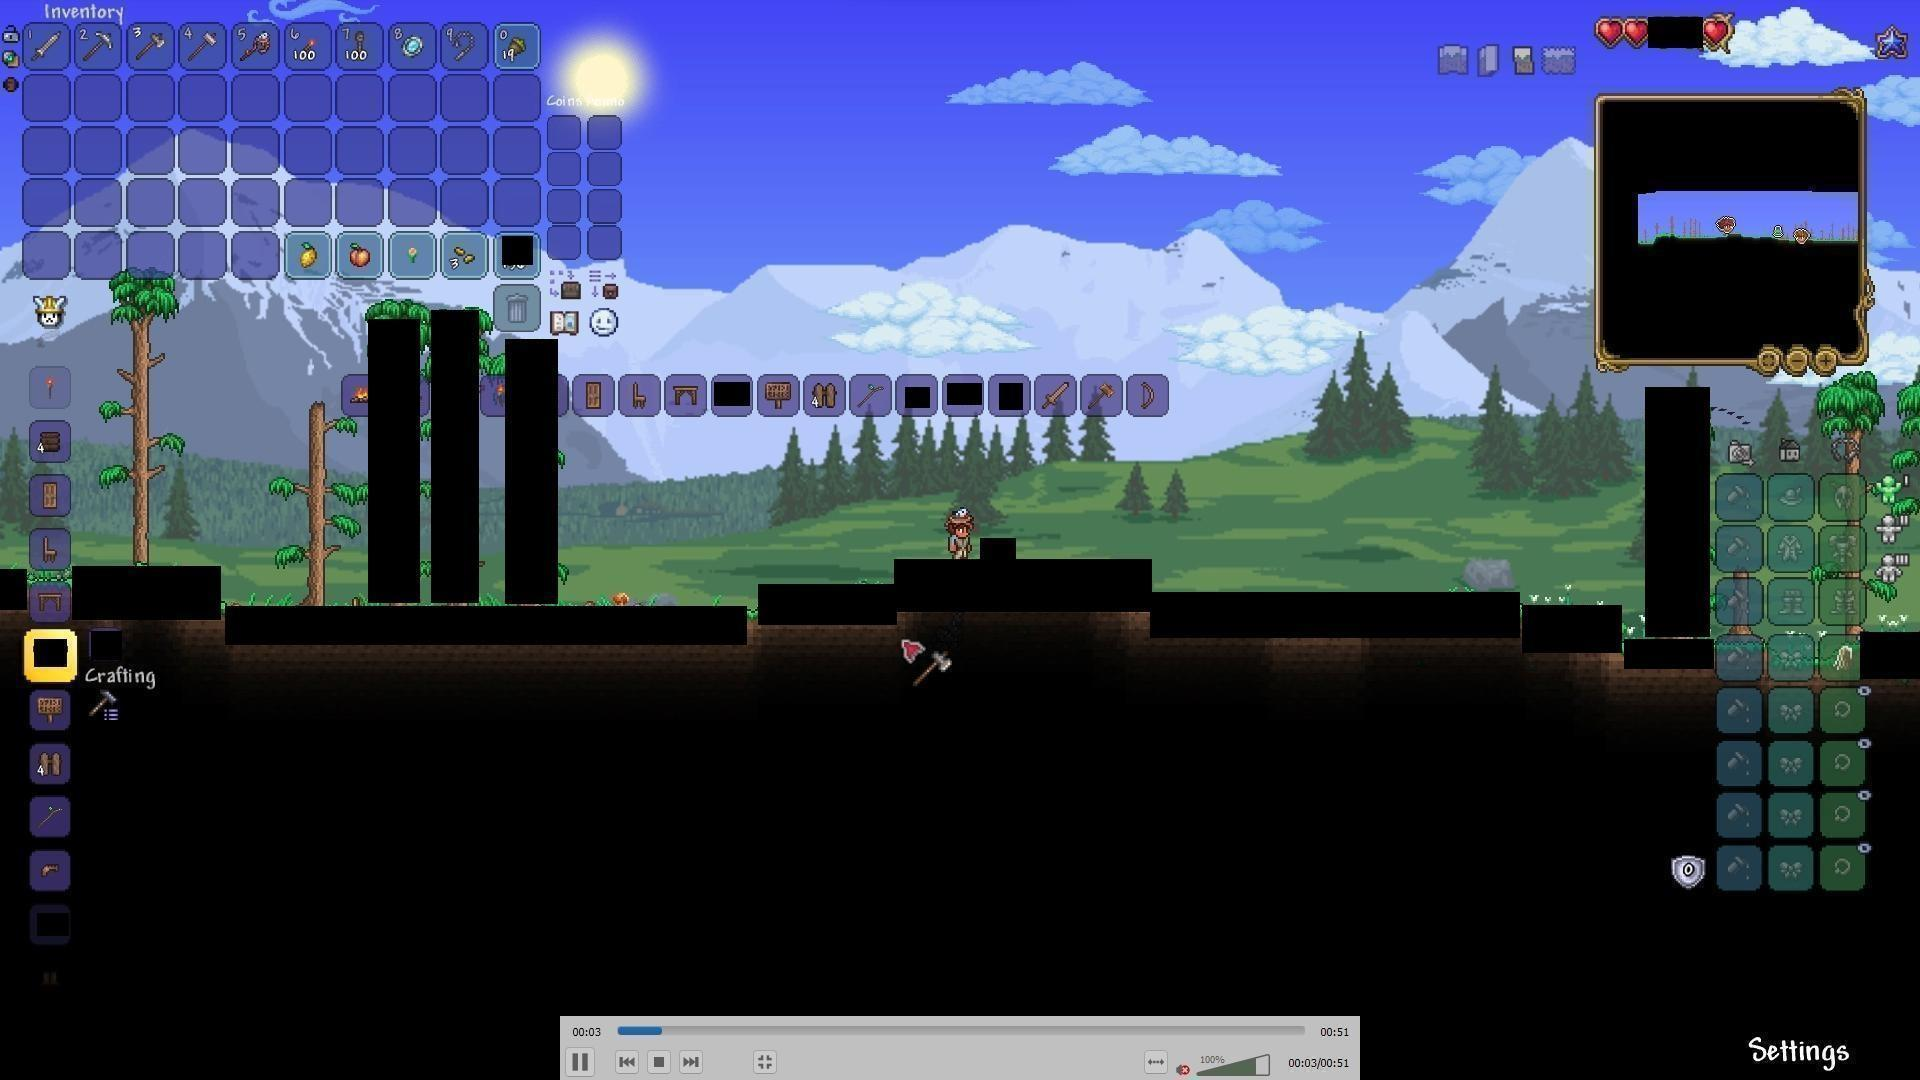heart: (1596, 16, 1626, 44), (1702, 18, 1730, 47), (1625, 17, 1651, 46)
helmet: (32, 855, 66, 886)
tree: (111, 281, 174, 563), (289, 378, 338, 603)
